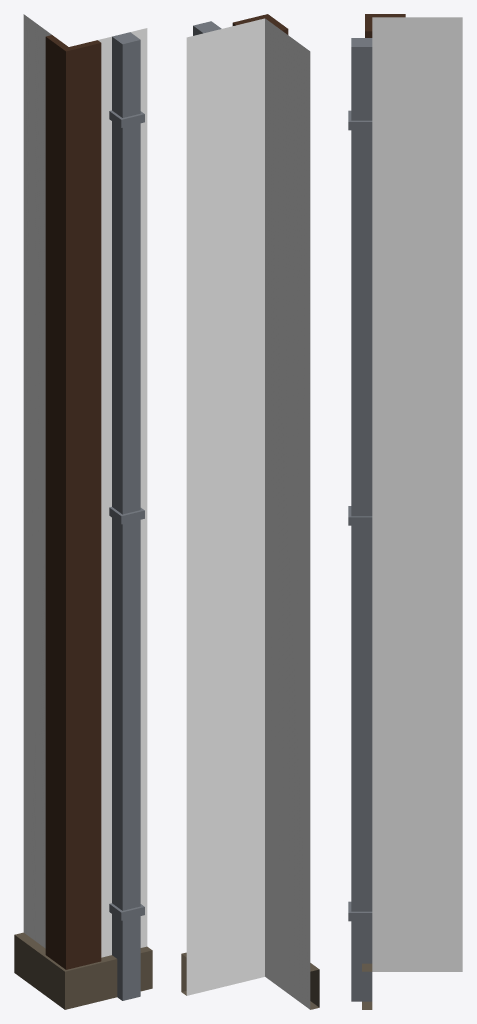
The model's file is mid-c1_close.fbx.
3 views of the same model, side by side, from view 1: azimuth 30°, elevation 25°; view 2: azimuth 210°, elevation 25°; view 3: azimuth 270°, elevation 25° (orthographic).
Visible parts, largest first — view 1: a2000/0/mid-c1_close; view 2: a2000/0/mid-c1_close; view 3: a2000/0/mid-c1_close.
Boxes of the visible parts, <box> form: a2000/0/mid-c1_close: <box>14,14,152,1009</box>; a2000/0/mid-c1_close: <box>181,14,319,1009</box>; a2000/0/mid-c1_close: <box>348,14,462,1009</box>.
Bounding box in the file's own units: 0.335 × 3.5 × 0.38.
